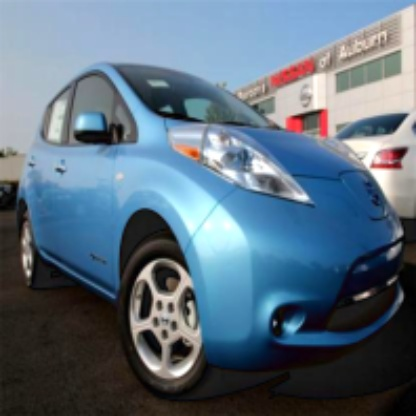Vehicle: (14, 58, 407, 402)
